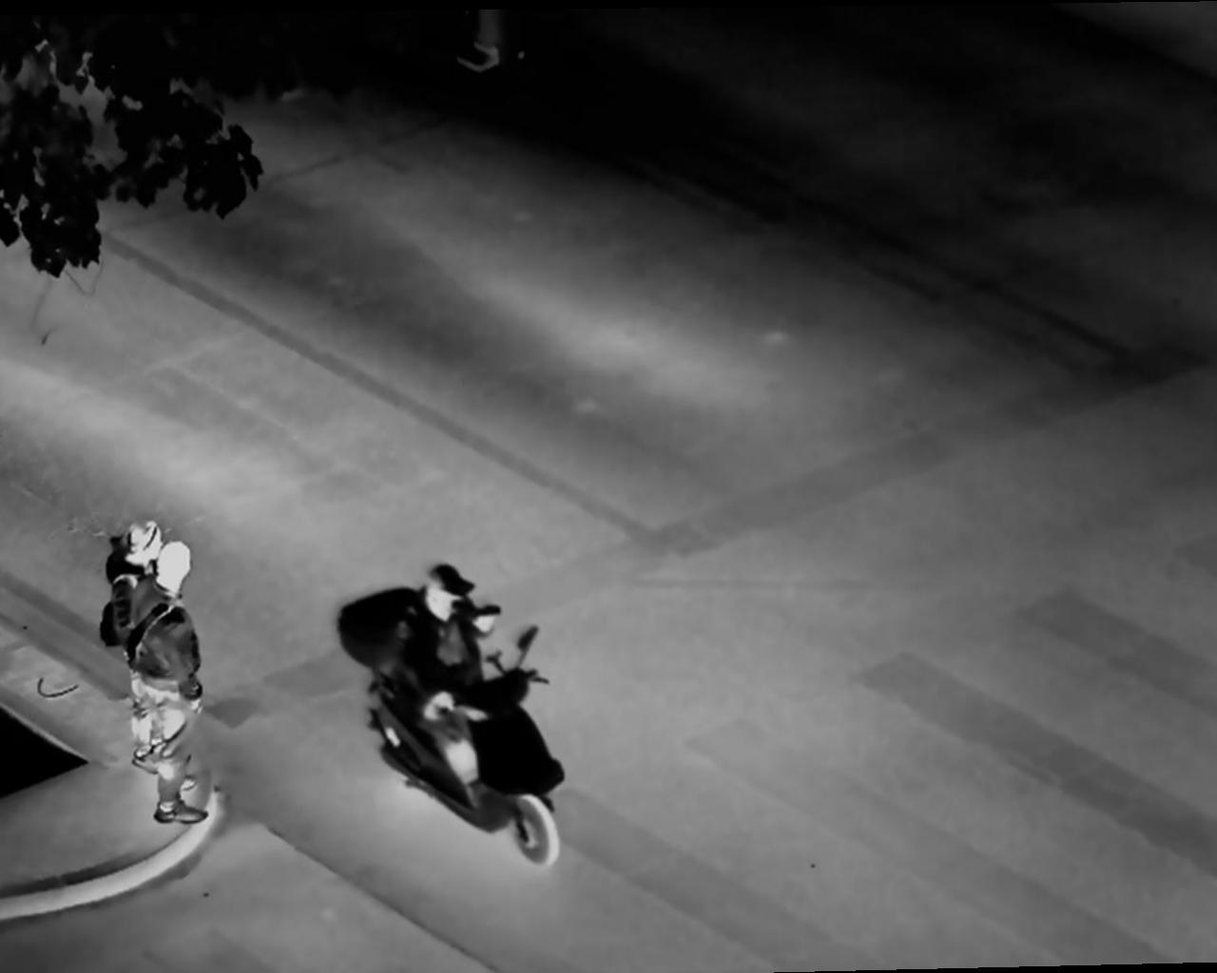person: (117, 543, 219, 832), (383, 560, 489, 773), (99, 521, 168, 773)
